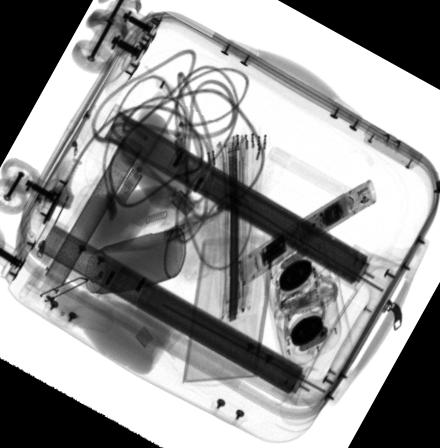Baton: (236, 179, 377, 287)
